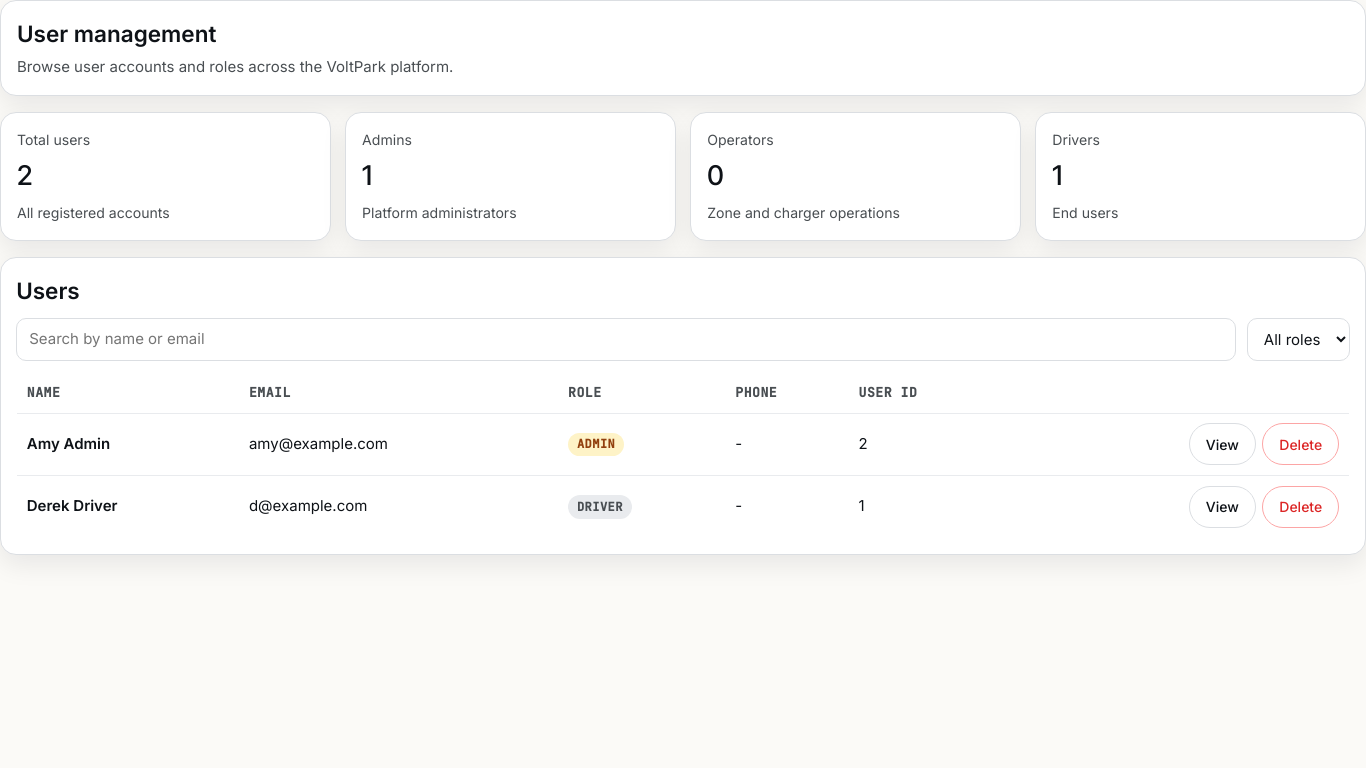
Scenario: UsersPage › filters by role and search
Expected: the text "Derek Driver" is shown, [27,496,118,516]
Select "Admin" in the dropdown showing "All roles" at [1298, 339], box [1247,318,1350,361]
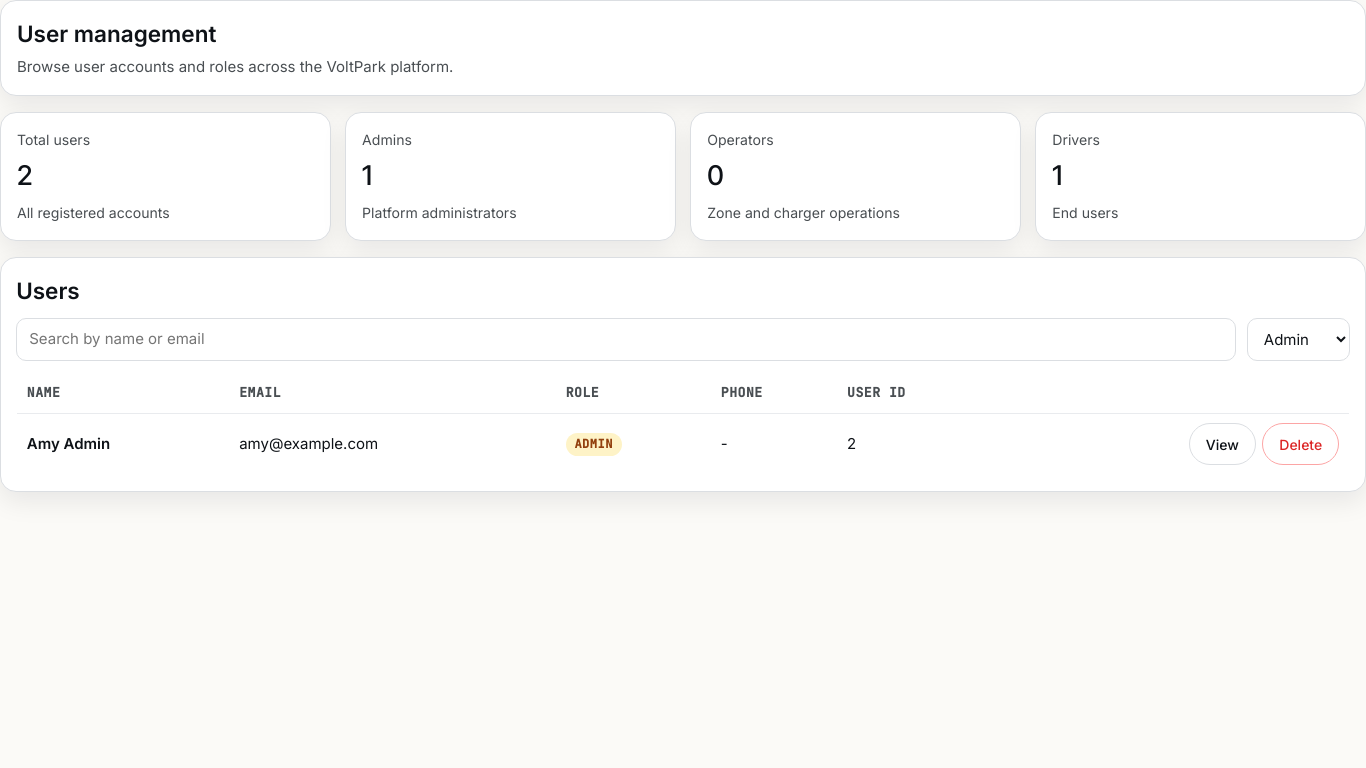
Expected: the text "Amy Admin" is shown, [27,434,110,453]
Result: the text "Derek Driver" is gone
Type "none" into the field with placeholder "Search by name or email" at [626, 339], box [16,318,1236,361]
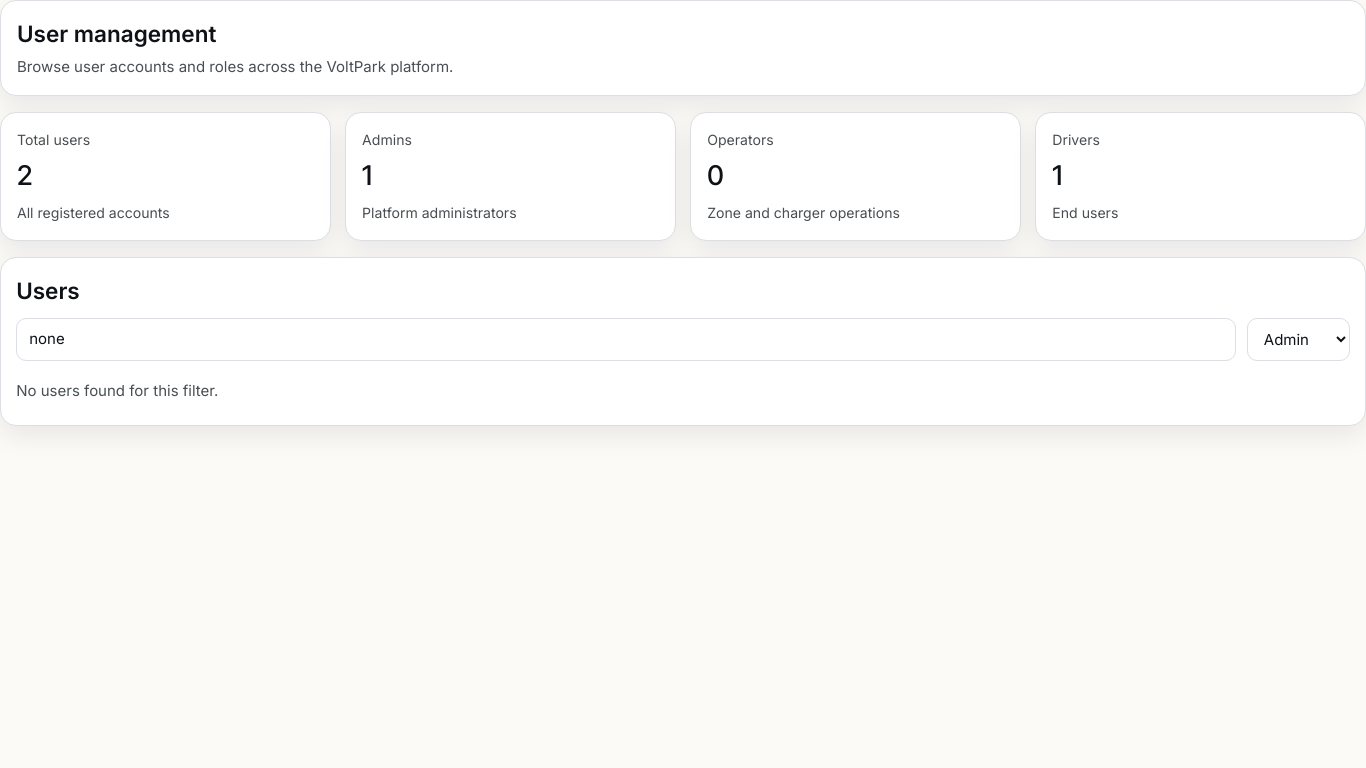
Result: the text "No users found for this filter." is shown at [16,381,218,400]
